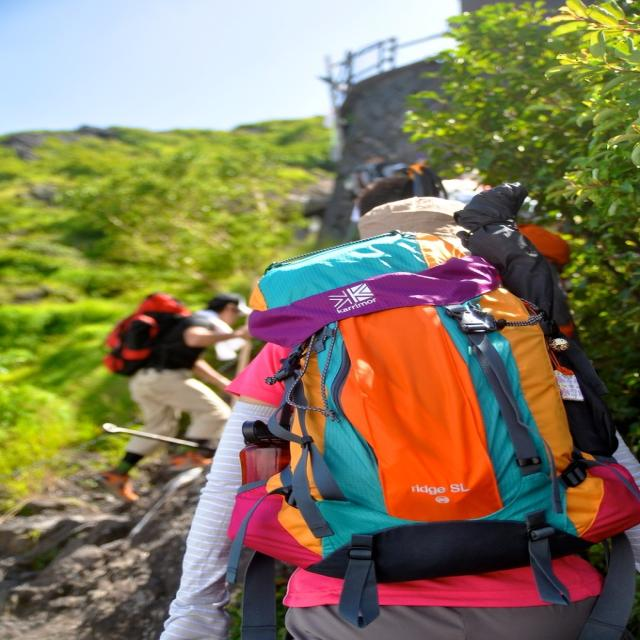backpack: (228, 224, 639, 567)
